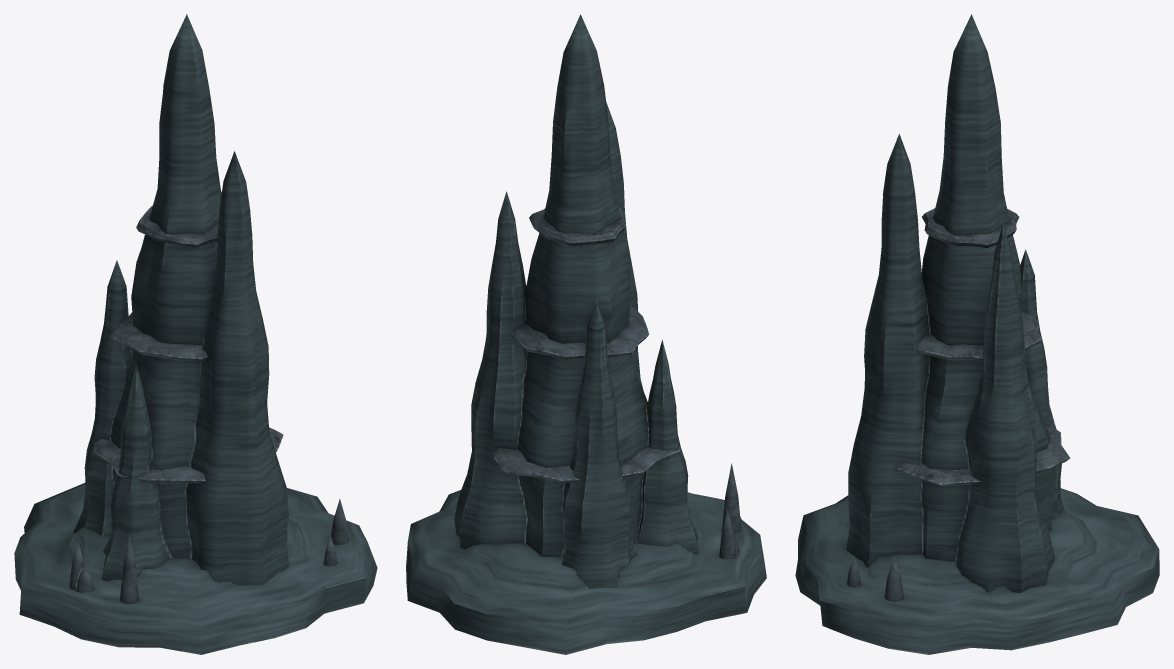
Rendered from underworld-flora-blackwater-flowstone-spire.glb.
3 views of the same model, side by side, from view 1: azimuth 30°, elevation 25°; view 2: azimuth 150°, elevation 25°; view 3: azimuth 270°, elevation 25° (orthographic).
Parts seen in each view (by area): view 1: columns, pool, deposit-rings, stalagmites; view 2: columns, pool, deposit-rings, stalagmites; view 3: columns, pool, deposit-rings, stalagmites.
Part boxes in pixels (x1,y1,x2,y2): columns: (73, 14, 288, 585); pool: (14, 483, 377, 654); deposit-rings: (93, 205, 283, 483); stalagmites: (69, 499, 349, 603); columns: (454, 14, 698, 588); pool: (406, 490, 766, 654); deposit-rings: (493, 206, 680, 482); stalagmites: (719, 463, 741, 558); columns: (846, 14, 1064, 592); pool: (795, 488, 1159, 654); deposit-rings: (894, 208, 1070, 486); stalagmites: (847, 555, 903, 601).
Bounding box in the file's own units: 4.22 × 6.86 × 4.03.
Materials: 3 (3 with a texture image).
